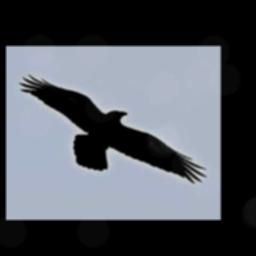Crow: (19, 74, 207, 185)
